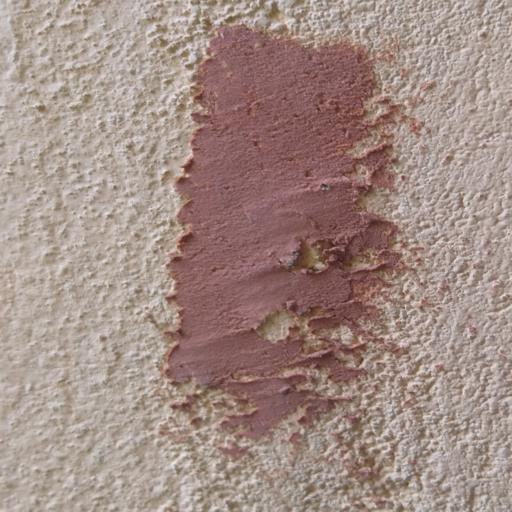stain: (151, 24, 409, 512)
